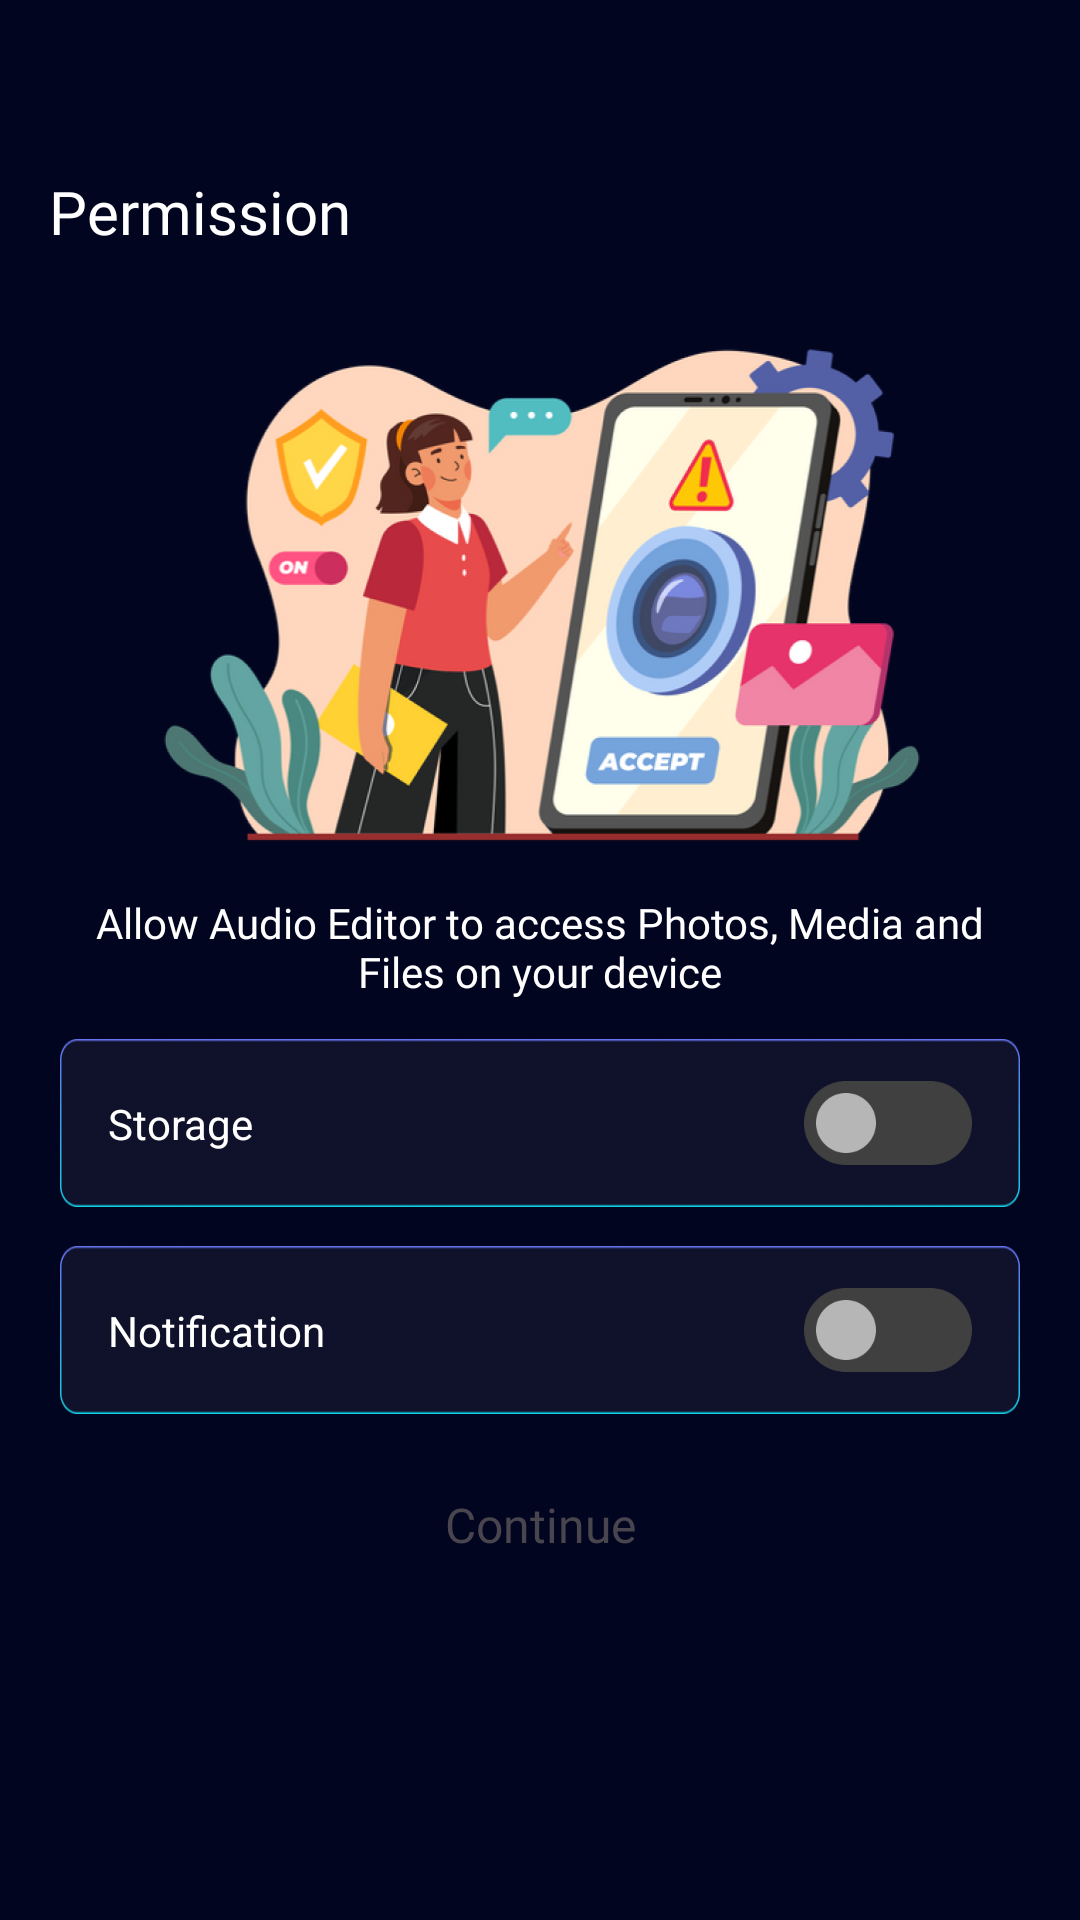

Screen size 1080 x 1920. Icon name, then its box in pixels as [x1=x1, y1=y1, x2=x2, y2=y2]:
swithfalse: [x1=804, y1=1081, x2=972, y2=1165], [x1=804, y1=1288, x2=972, y2=1372]
